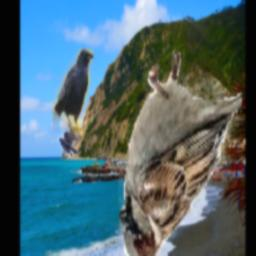Crow: (53, 48, 93, 141), (57, 132, 78, 157)
Sparrow: (117, 45, 242, 256)
